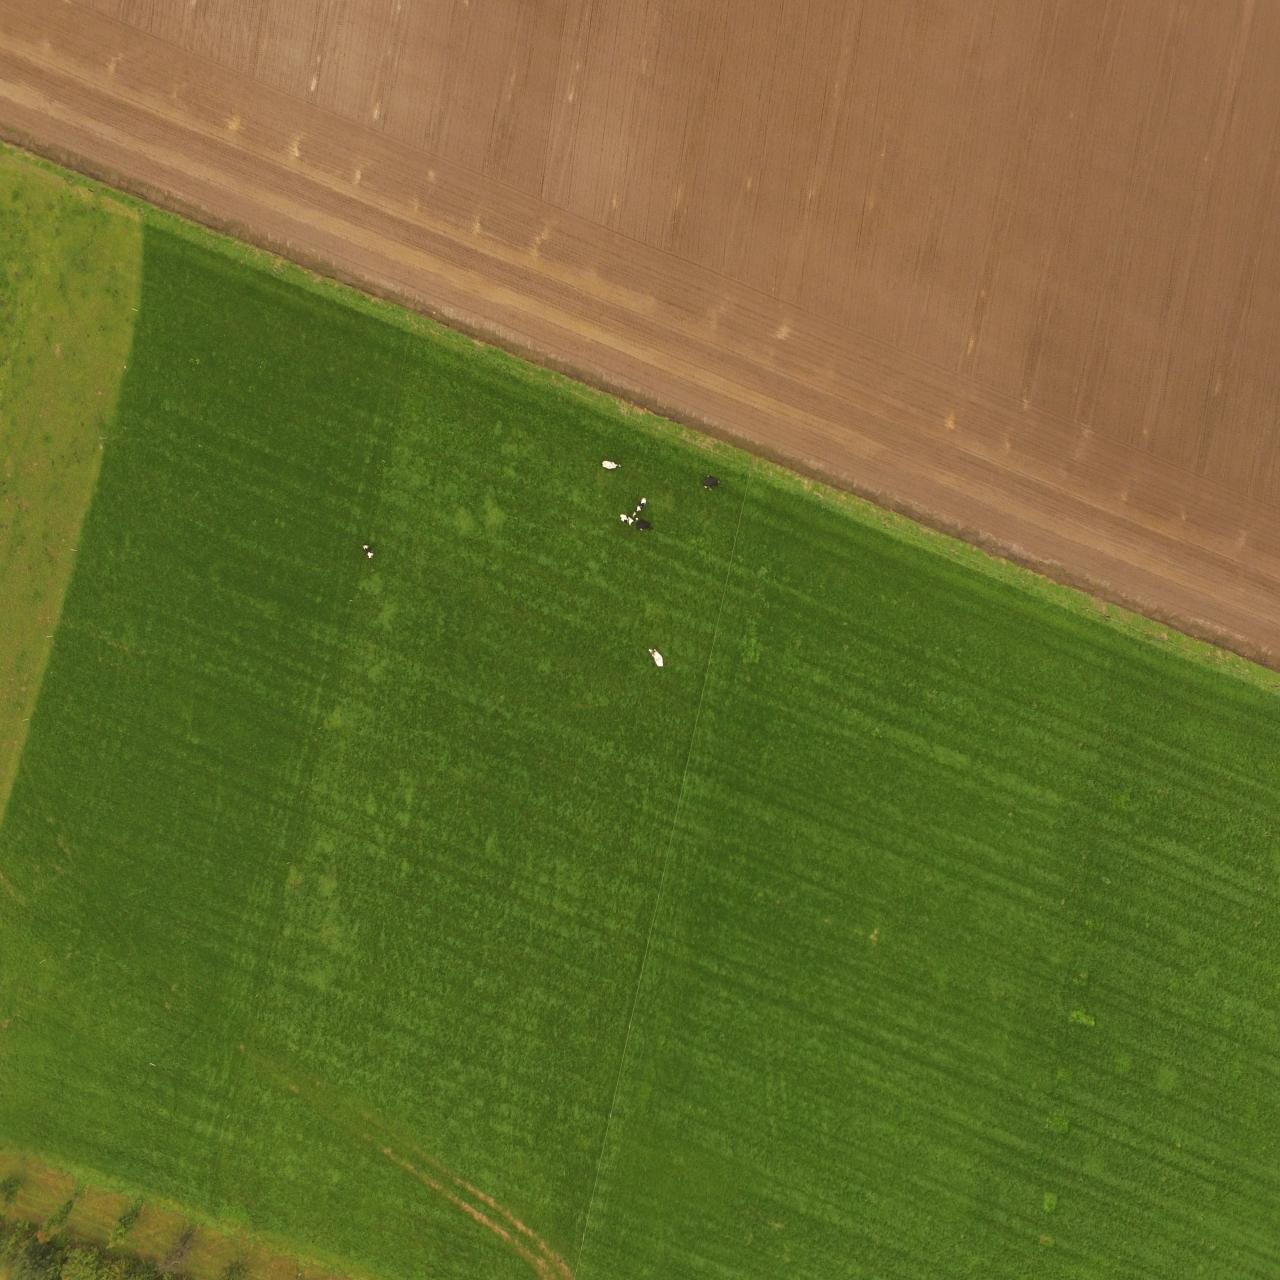cow: (701, 472, 721, 492), (632, 495, 648, 517), (647, 648, 666, 667), (599, 459, 624, 472), (361, 544, 375, 560), (620, 513, 634, 530), (638, 519, 655, 532)
